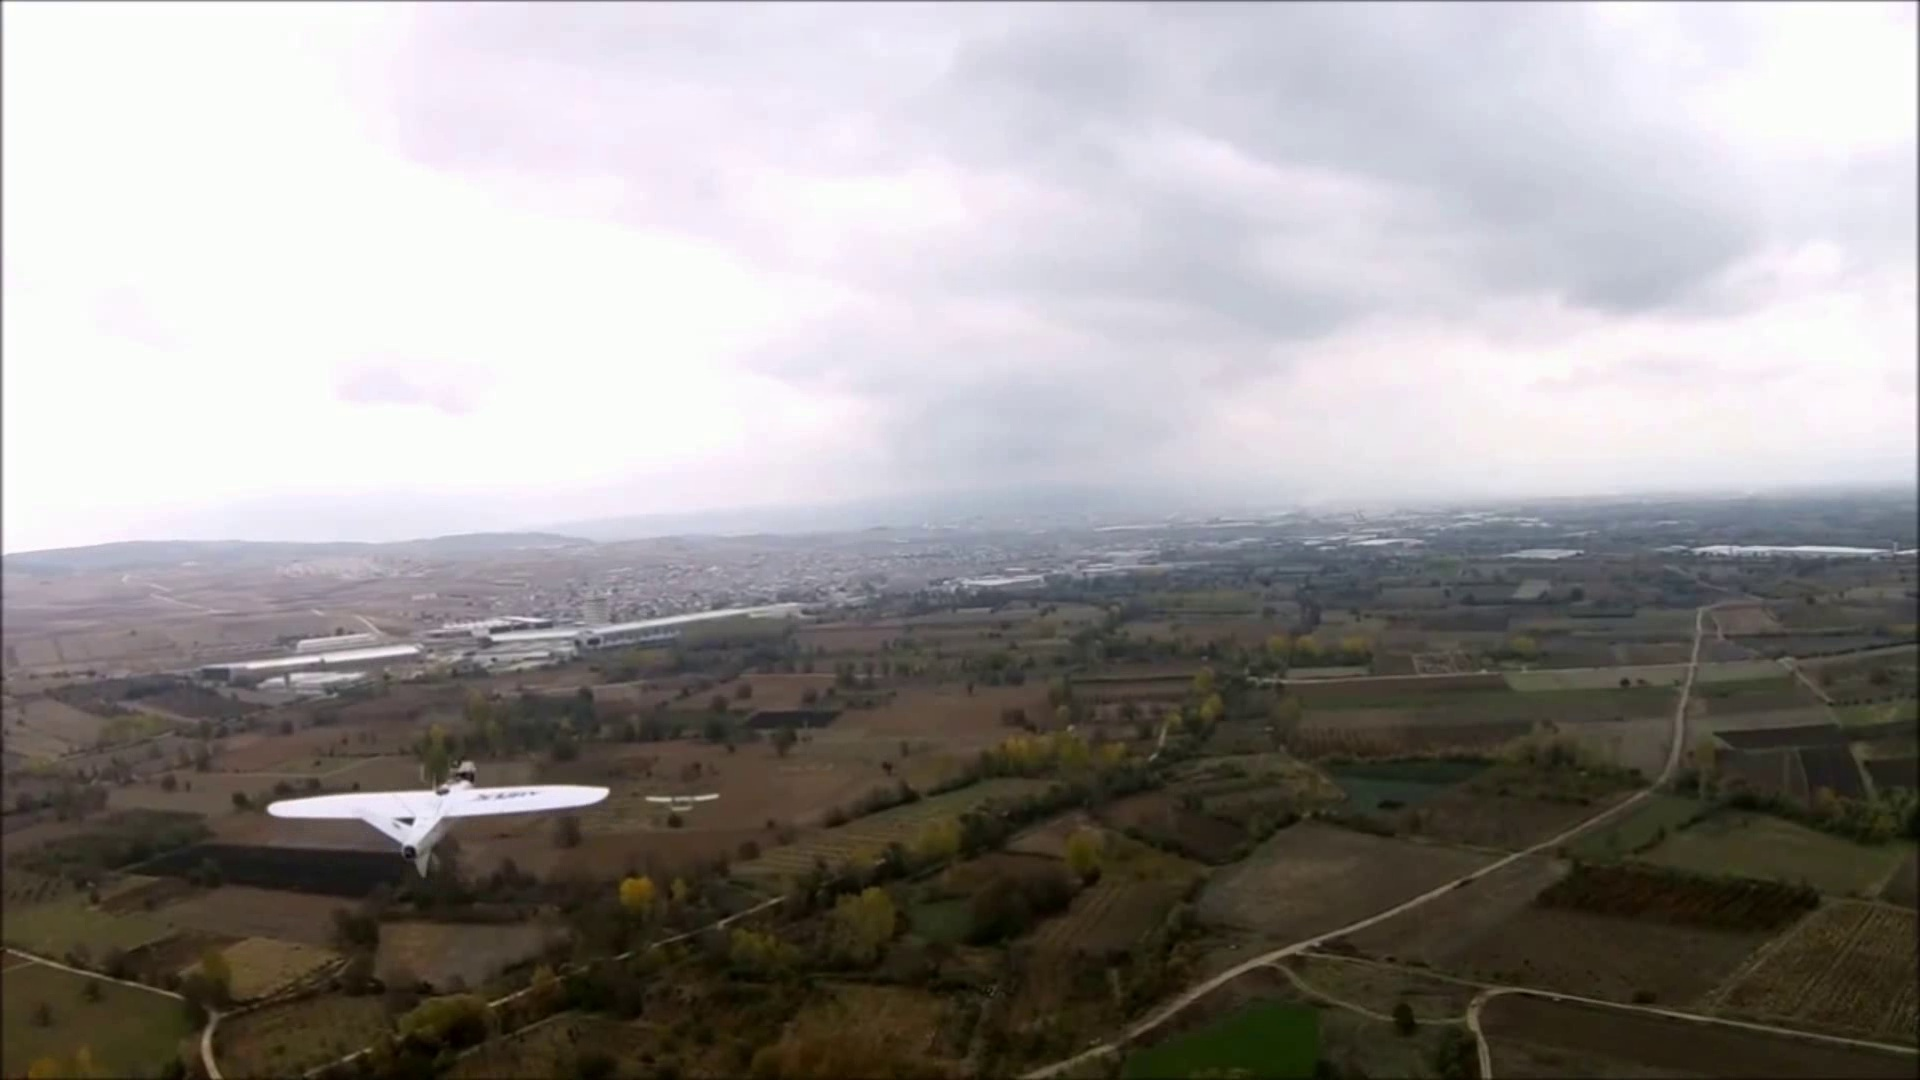airplane: (264, 772, 612, 862)
